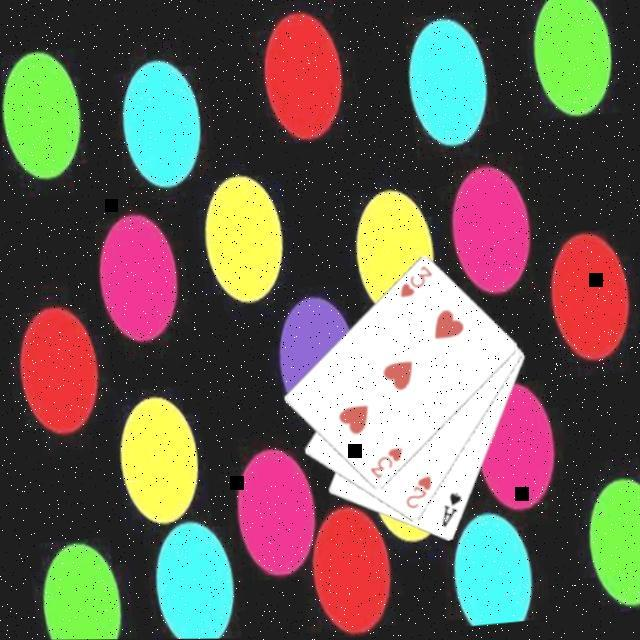2H: (396, 471, 433, 512)
3H: (391, 260, 434, 300), (361, 442, 404, 480)
AS: (432, 487, 464, 529)
